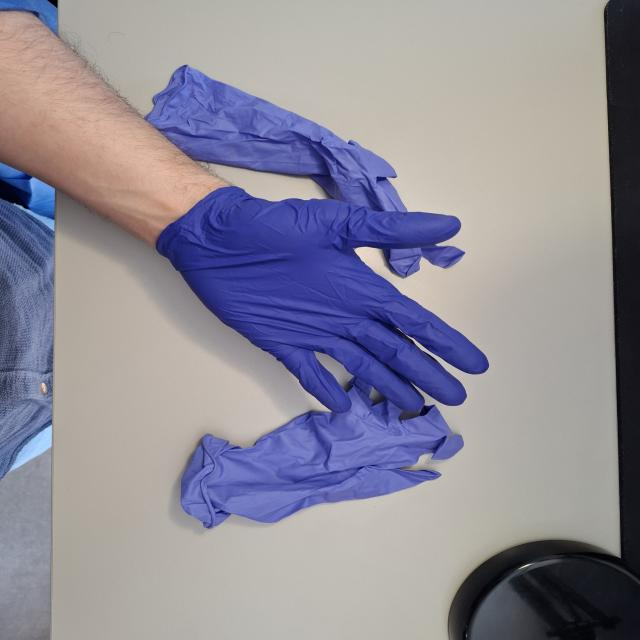glove_on: (154, 182, 492, 416)
